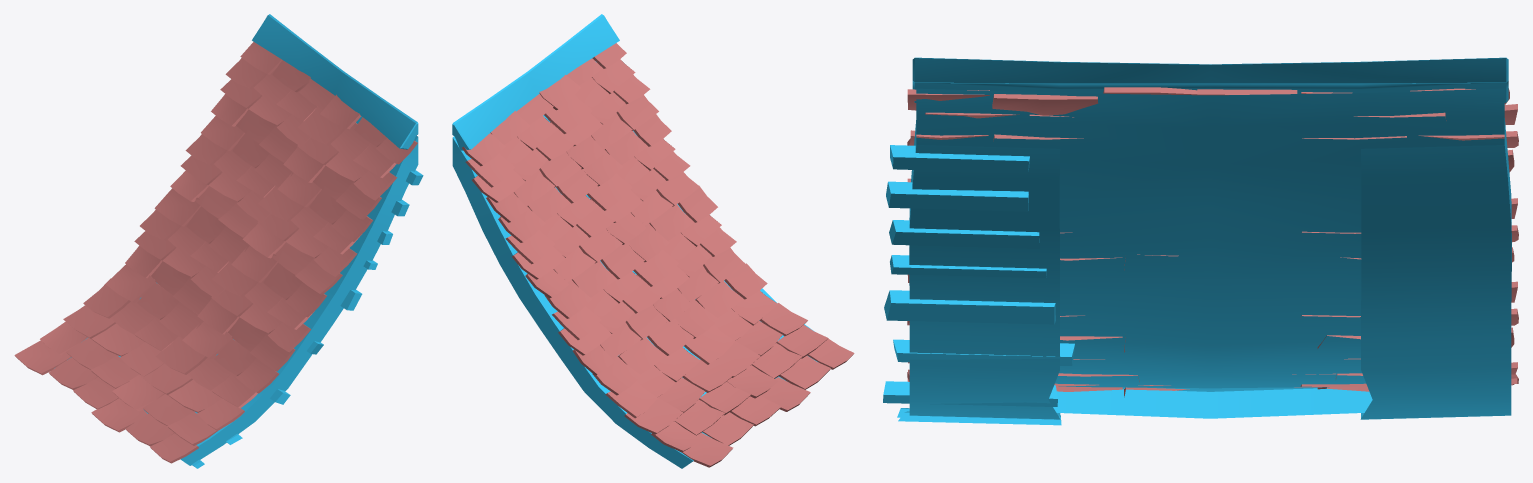
File: Roof_01_wide_half.fbx
3 views of the same model, side by side, from view 1: azimuth 30°, elevation 25°; view 2: azimuth 150°, elevation 25°; view 3: azimuth 270°, elevation 25° (orthographic). The views are drawn at different scales.
Parts seen in each view (by area): view 1: Roof_01_wide_half_LOD0; view 2: Roof_01_wide_half_LOD0; view 3: Roof_01_wide_half_LOD0.
Boxes of the visible parts, left/top/right/bottom form: Roof_01_wide_half_LOD0: left=14, top=14, right=423, bottom=468; Roof_01_wide_half_LOD0: left=452, top=14, right=854, bottom=468; Roof_01_wide_half_LOD0: left=883, top=57, right=1518, bottom=425.
Size of what is drawn, in the model's own units: 756 by 821 by 809.
